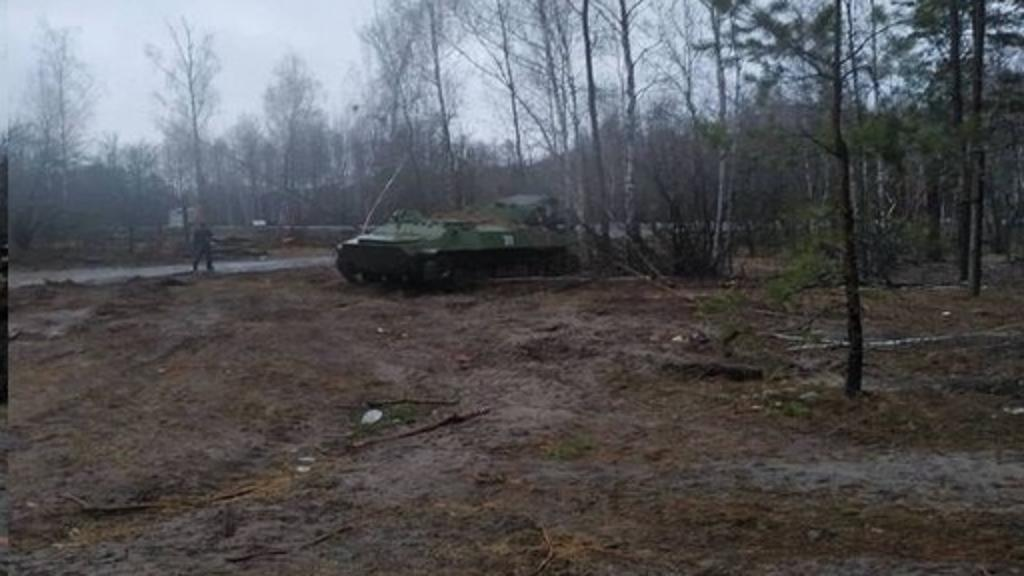APC-IFV: (330, 186, 584, 296)
